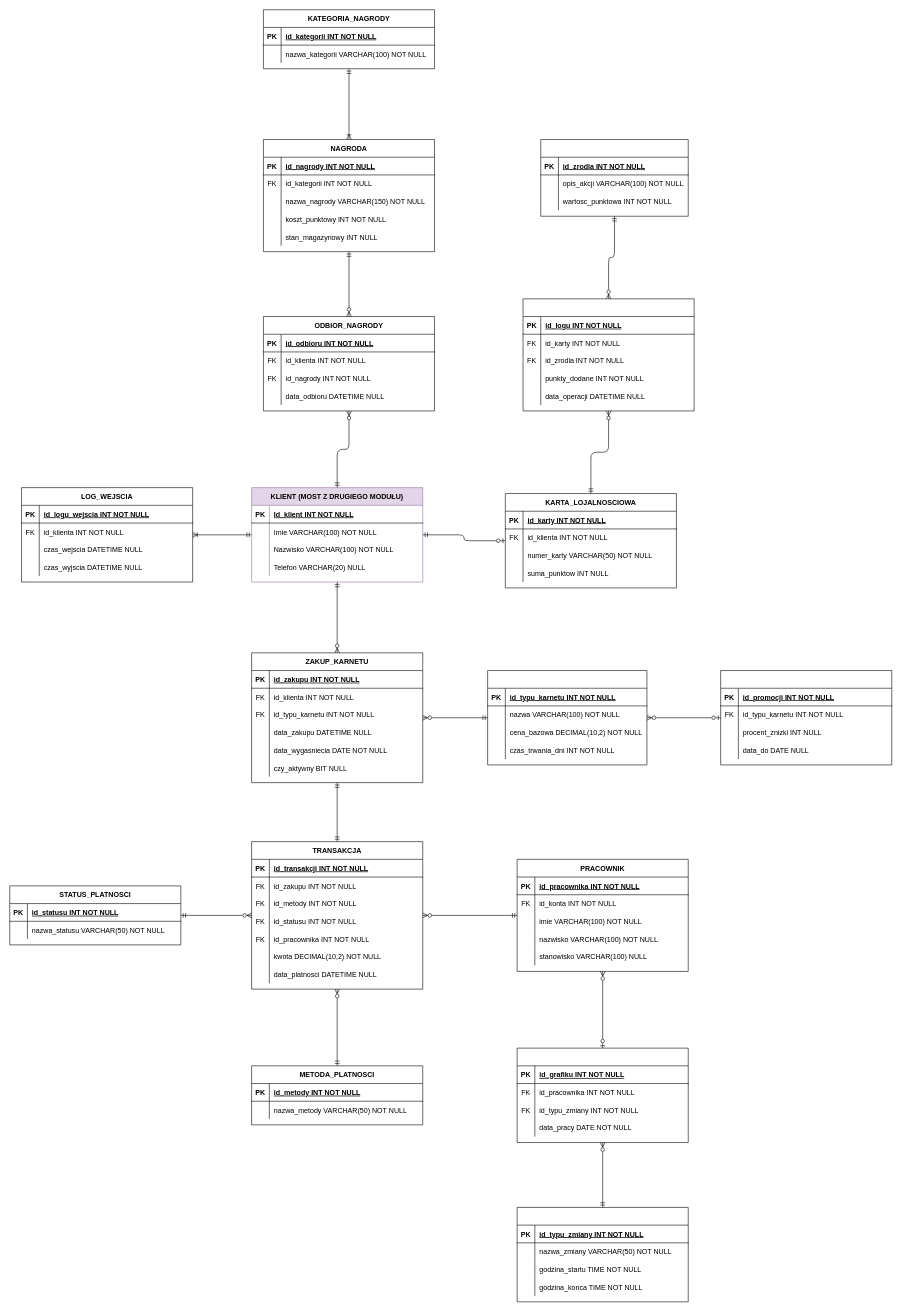
The diagram is 902 pixels wide and 1312 high, and some of its shapes have lost their labels. The shapes that lost their labels are listed below. From the top down, each one's box as (x1, y1, x2, y2) in pixels, then its label:
(540, 139, 688, 216): ZRODLO_PUNKTOW
(522, 298, 694, 411): LOG_PUNKTOW
(487, 670, 647, 765): TYP_KARNETU
(720, 670, 892, 765): PROMOCJA
(517, 1048, 688, 1143): GRAFIK_PRACY
(517, 1207, 688, 1302): TYP_ZMIANY
